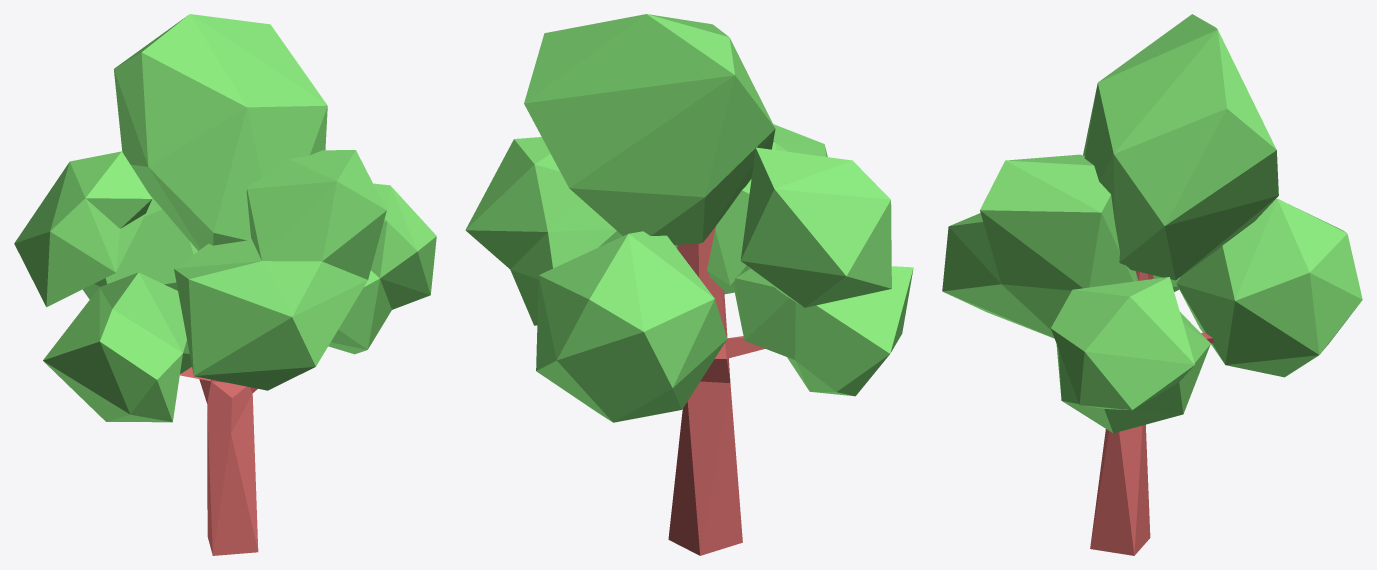
File: tree_5.fbx
3 views of the same model, side by side, from view 1: azimuth 30°, elevation 25°; view 2: azimuth 150°, elevation 25°; view 3: azimuth 270°, elevation 25° (orthographic). The views are drawn at different scales.
Parts seen in each view (by area): view 1: tree_3; view 2: tree_3; view 3: tree_3.
Part boxes in pixels (x1,y1,x2,y2): tree_3: (14, 14, 436, 555); tree_3: (465, 14, 913, 555); tree_3: (942, 14, 1362, 555).
Bounding box in the file's own units: 831 × 1062 × 785.
